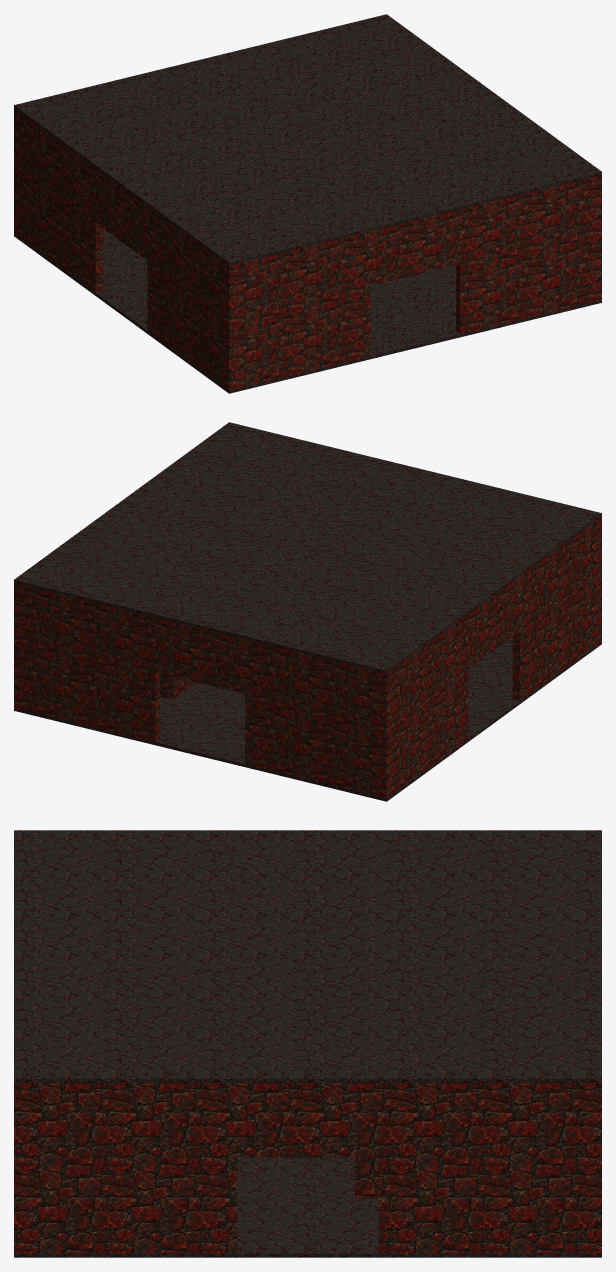
Rendered from room_mini_cover.glb.
3 renders of one model, top to bottom at view 1: azimuth 30°, elevation 25°; view 2: azimuth 150°, elevation 25°; view 3: azimuth 270°, elevation 25°, orthographic. The views are drawn at different scales.
Parts seen in each view (by area): view 1: Geo_Ceiling.005, Geo_Wall_S_L.005, Geo_Wall_S_R.005, Geo_Floor.005, Geo_Wall_W_R.004, Geo_Wall_W_L.004, Geo_Wall_S_Lintel.005, Geo_Wall_W_Lintel.004, Geo_Wall_N_L.005; view 2: Geo_Ceiling.005, Geo_Wall_N_L.005, Geo_Wall_N_R.005, Geo_Floor.005, Geo_Wall_W_L.004, Geo_Wall_W_R.004, Geo_Wall_N_Lintel.004, Geo_Wall_W_Lintel.004, Geo_Cover_E, Geo_Wall_S_L.005; view 3: Geo_Ceiling.005, Geo_Wall_E_L.004, Geo_Wall_E_R.004, Geo_Floor.005, Geo_Wall_E_Lintel.004, Geo_Wall_N_R.005, Geo_Wall_S_R.005, Geo_Cover_E.
Part boxes in pixels (x1,y1,x2,y2): Geo_Ceiling.005: (14, 14, 601, 265); Geo_Wall_S_L.005: (225, 231, 370, 390); Geo_Wall_S_R.005: (456, 175, 601, 333); Geo_Floor.005: (14, 228, 601, 393); Geo_Wall_W_R.004: (18, 111, 103, 292); Geo_Wall_W_L.004: (147, 206, 224, 387); Geo_Wall_S_Lintel.005: (371, 209, 460, 285); Geo_Wall_W_Lintel.004: (95, 168, 147, 259); Geo_Wall_N_L.005: (14, 108, 18, 235); Geo_Ceiling.005: (14, 422, 601, 673); Geo_Wall_N_L.005: (245, 639, 390, 798); Geo_Wall_N_R.005: (14, 583, 159, 741); Geo_Floor.005: (14, 636, 601, 801); Geo_Wall_W_L.004: (512, 519, 597, 700); Geo_Wall_W_R.004: (391, 614, 468, 795); Geo_Wall_N_Lintel.004: (155, 617, 244, 693); Geo_Wall_W_Lintel.004: (468, 576, 520, 667); Geo_Cover_E: (160, 673, 197, 700); Geo_Wall_S_L.005: (597, 516, 601, 643); Geo_Ceiling.005: (14, 830, 601, 1082); Geo_Wall_E_L.004: (25, 1083, 237, 1253); Geo_Wall_E_R.004: (378, 1083, 590, 1253); Geo_Floor.005: (14, 1157, 601, 1257); Geo_Wall_E_Lintel.004: (237, 1083, 378, 1157); Geo_Wall_N_R.005: (590, 1083, 601, 1253); Geo_Wall_S_R.005: (14, 1083, 25, 1253); Geo_Cover_E: (355, 1157, 378, 1198).
Bounding box in the file's own units: 25 × 8.4 × 25.
Materials: 3 (3 with a texture image).
